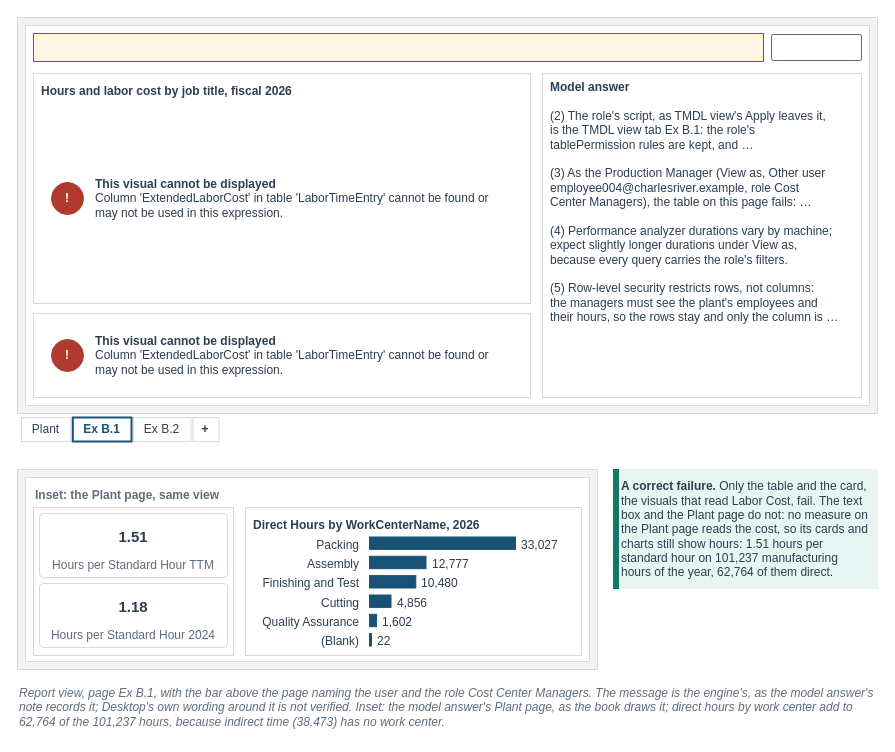
Image size: 895x752. Some labels were removed from this diagram. The box of each missing label's shape, as (x1, y1, x2, y2) in pixels:
Stop viewing: (770, 34, 862, 60)
Viewing as employee004@charlesriver.example in the role Cost Center Managers: (32, 32, 764, 62)
